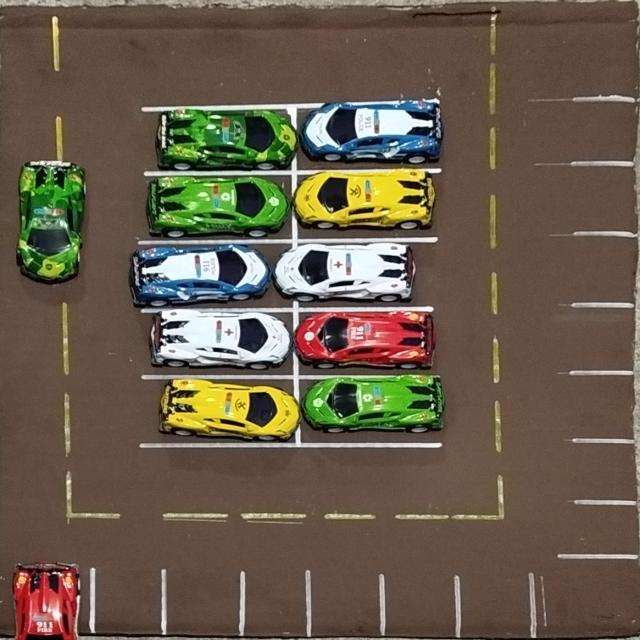libre: (308, 567, 386, 640), (166, 567, 244, 640), (91, 565, 166, 640), (457, 571, 536, 640), (573, 232, 640, 306), (387, 571, 458, 640), (572, 304, 640, 375), (570, 372, 640, 440), (572, 438, 640, 507), (573, 163, 640, 233), (243, 569, 310, 639), (572, 98, 640, 163), (574, 501, 640, 554)
no_estacionarse: (540, 555, 640, 640)
ocupado: (294, 102, 448, 172), (145, 376, 298, 446), (144, 171, 295, 241), (294, 172, 445, 241), (143, 242, 296, 310), (145, 309, 293, 377), (294, 307, 438, 376), (299, 375, 438, 446), (146, 107, 294, 172), (295, 240, 435, 308), (0, 559, 92, 640)
